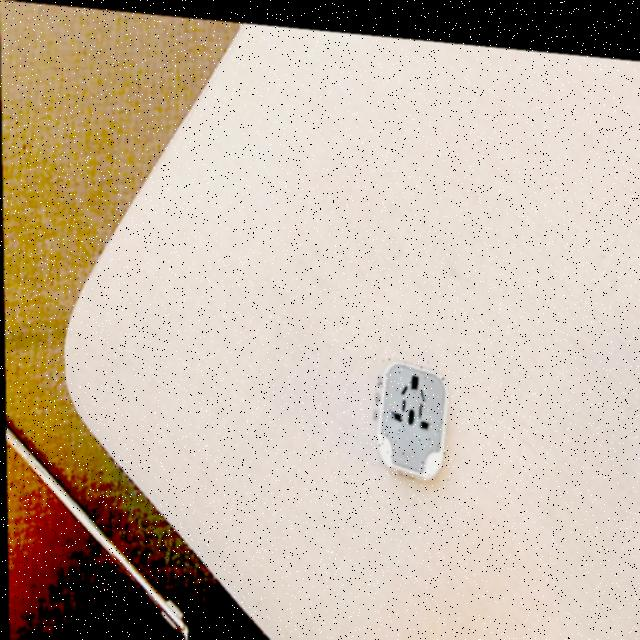adapter: (370, 349, 448, 475)
